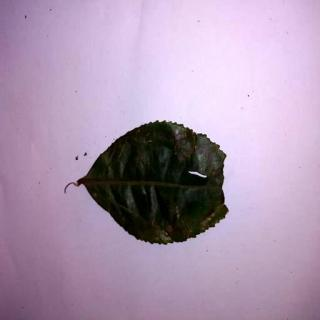Anthracnose: (76, 122, 231, 244)
